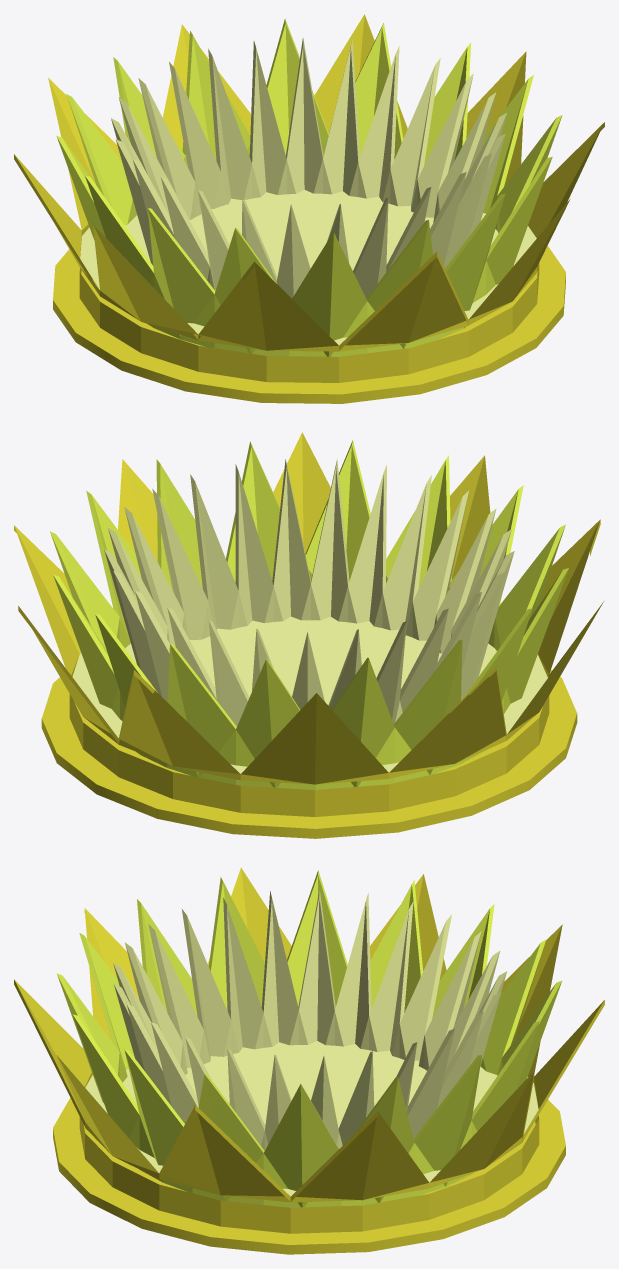
File: portal_abrir_000021.obj
3 views of the same model, one above another, from view 1: azimuth 30°, elevation 25°; view 2: azimuth 150°, elevation 25°; view 3: azimuth 270°, elevation 25° (orthographic). The views are drawn at different scales.
Parts seen in each view (by area): view 1: pCylinder1, Cylinder.001, Cylinder; view 2: pCylinder1, Cylinder.001, Cylinder; view 3: pCylinder1, Cylinder.001, Cylinder.
Part boxes in pixels (x1=…): pCylinder1: x1=14, y1=14, x2=604, y2=403; Cylinder.001: x1=111, y1=37, x2=506, y2=298; Cylinder: x1=56, y1=18, x2=562, y2=356; pCylinder1: x1=14, y1=432, x2=603, y2=838; Cylinder.001: x1=104, y1=459, x2=514, y2=726; Cylinder: x1=50, y1=440, x2=568, y2=789; pCylinder1: x1=14, y1=867, x2=604, y2=1254; Cylinder.001: x1=113, y1=889, x2=506, y2=1150; Cylinder: x1=57, y1=870, x2=561, y2=1207.
Size of the model in its own units: 3.91 by 1.3 by 4.
4 materials, 4 textured.
